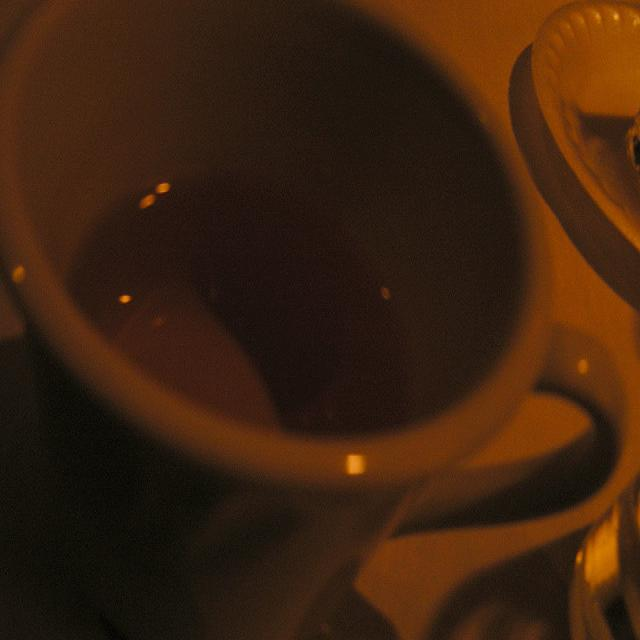Cup: (0, 17, 607, 640)
